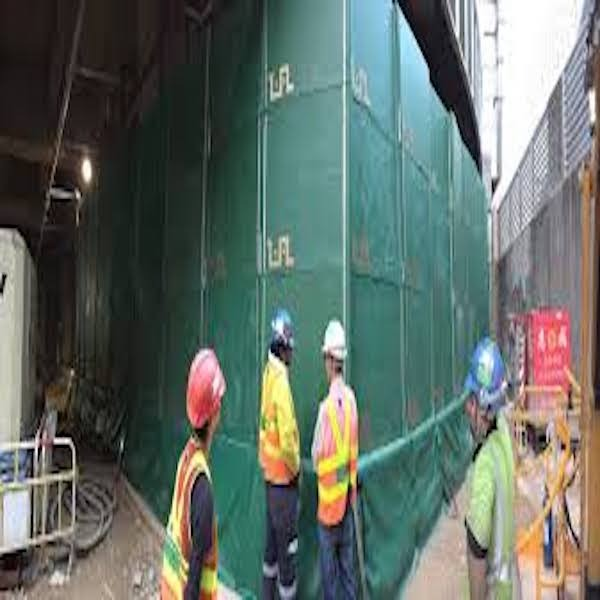helmet: (180, 348, 230, 426), (470, 339, 507, 406), (320, 315, 355, 361), (269, 307, 302, 352)
vest: (463, 422, 518, 600), (164, 443, 218, 594), (316, 379, 362, 528), (254, 362, 302, 491)
